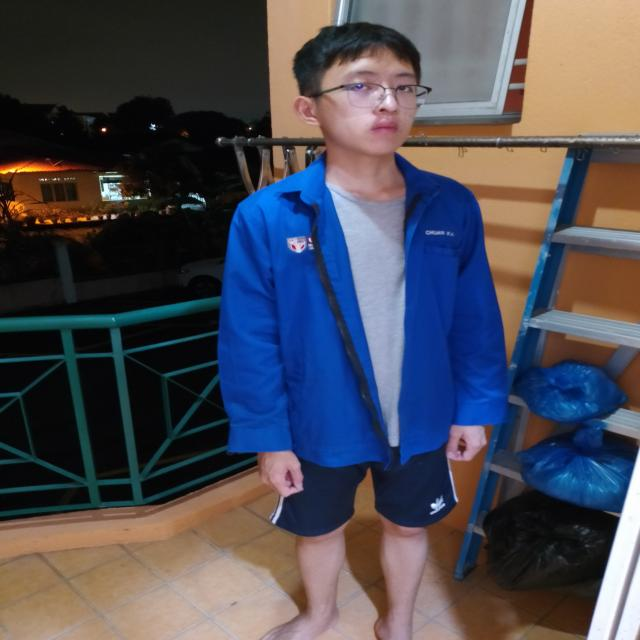person_with_labcoat: (219, 23, 508, 640), (400, 297, 404, 448)
